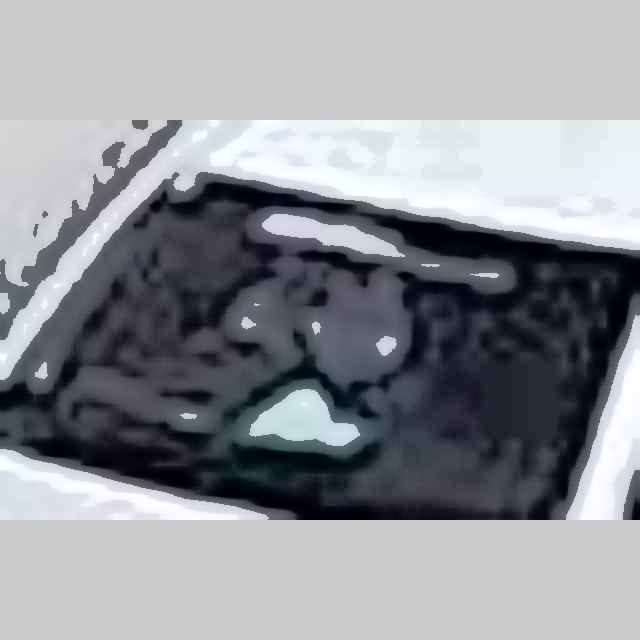pakai: (210, 230, 430, 420)
